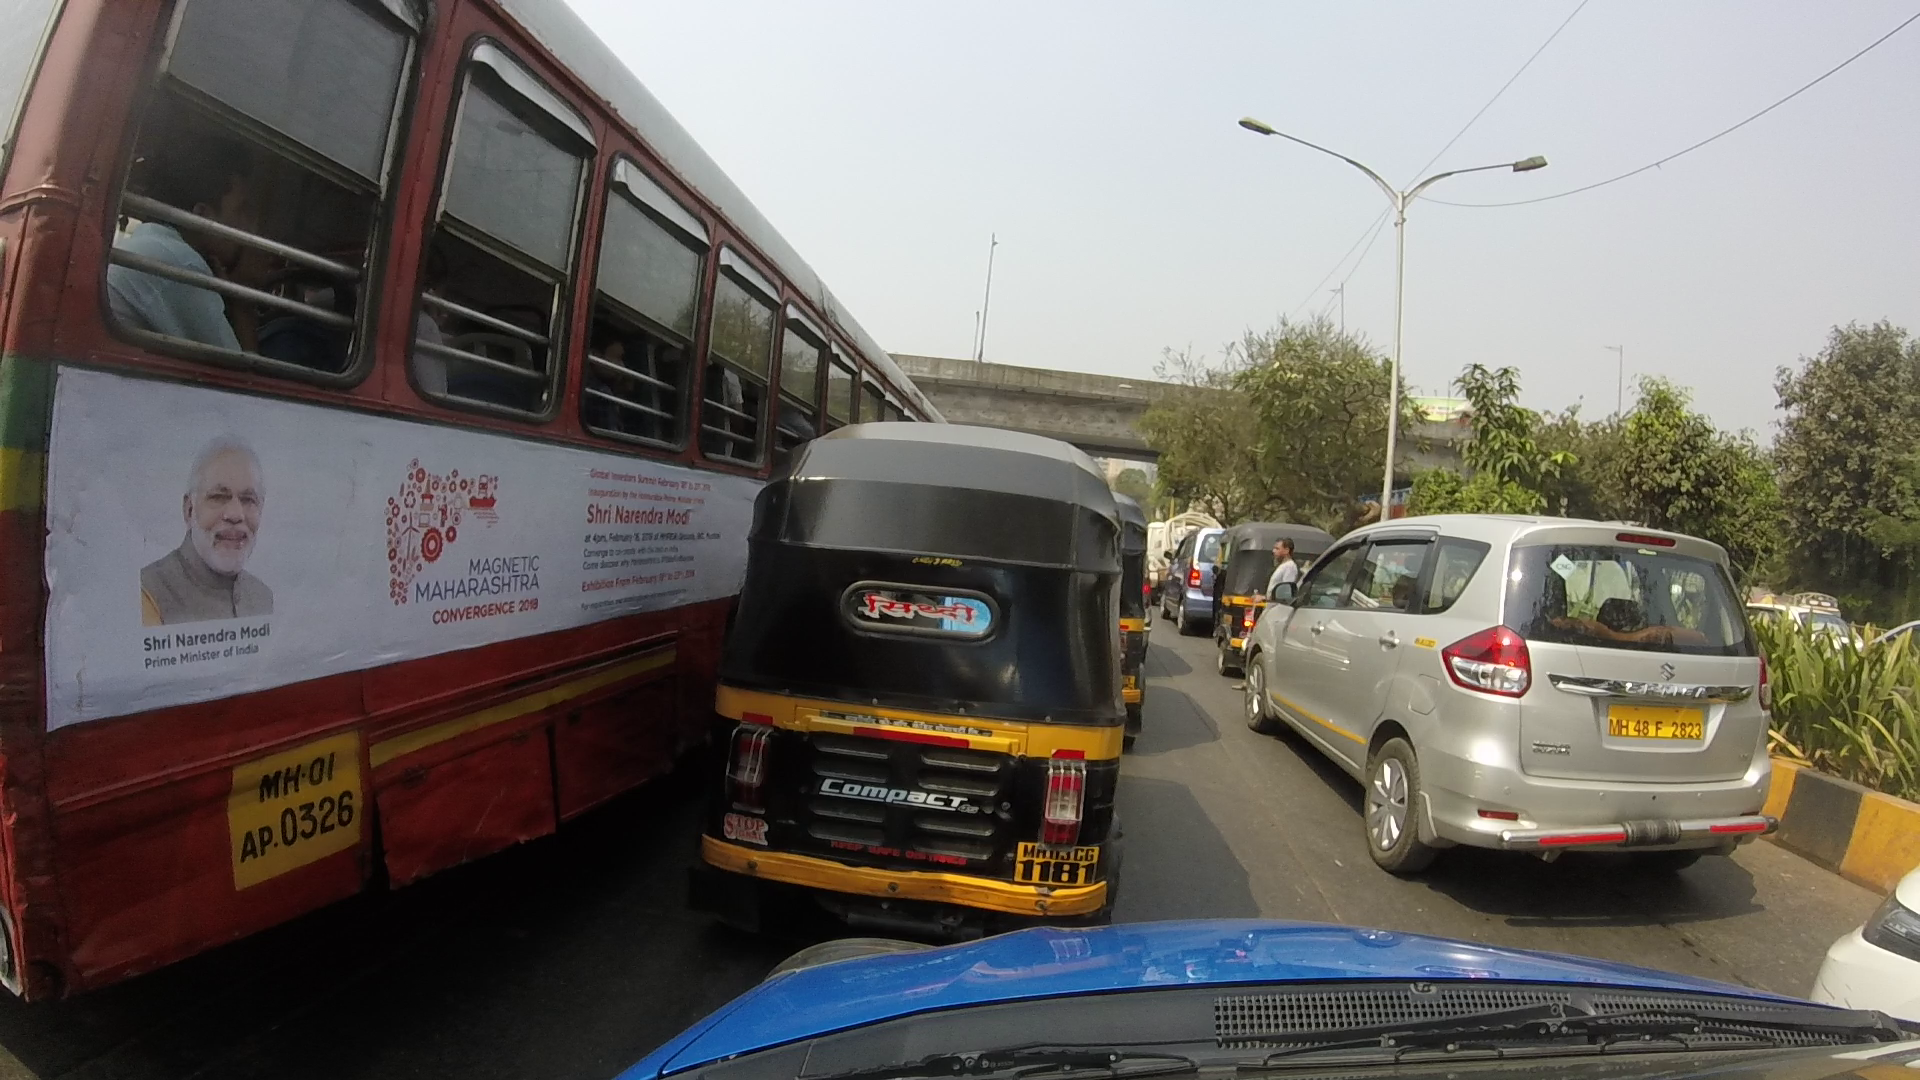bus: (12, 7, 934, 1015)
car: (1257, 531, 1807, 876), (1811, 833, 1920, 1006)
rickshaw: (712, 396, 1149, 916), (1095, 477, 1182, 720), (1216, 509, 1323, 659)
